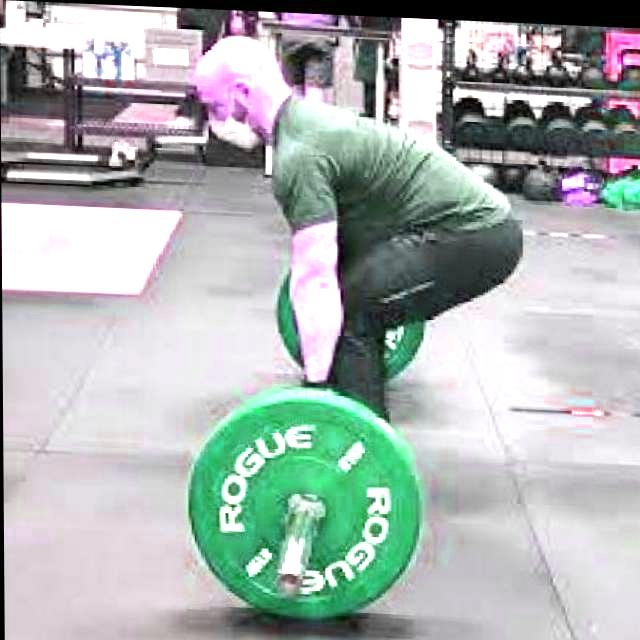barbell: (180, 370, 425, 632)
